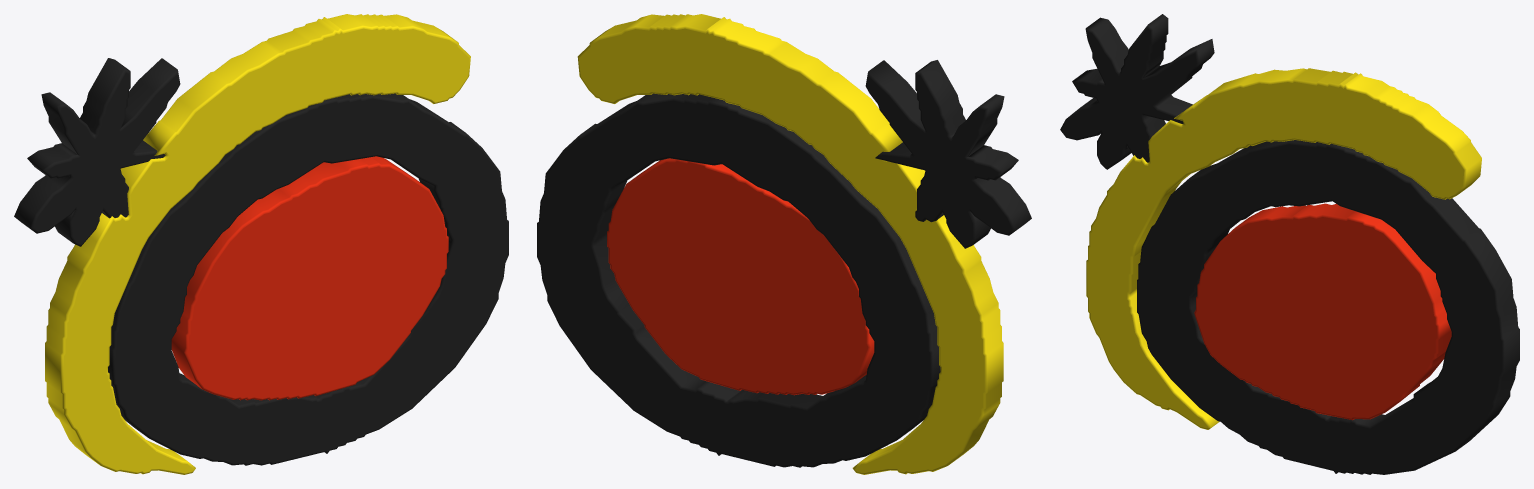
Rendered from spain-sun.glb.
3 renders of one model, left to right at view 1: azimuth 30°, elevation 25°; view 2: azimuth 150°, elevation 25°; view 3: azimuth 330°, elevation 25°, orthographic. The views are drawn at different scales.
Visible parts, largest first — view 1: Black sun and star, Red sun, Yellow crescent; view 2: Black sun and star, Yellow crescent, Red sun; view 3: Black sun and star, Red sun, Yellow crescent.
Boxes of the visible parts, bbox=[...] form: Black sun and star: bbox=[14, 58, 508, 465]; Red sun: bbox=[171, 156, 448, 400]; Yellow crescent: bbox=[45, 14, 470, 474]; Black sun and star: bbox=[537, 60, 1031, 467]; Yellow crescent: bbox=[577, 14, 1003, 474]; Red sun: bbox=[607, 158, 874, 395]; Black sun and star: bbox=[1060, 14, 1519, 474]; Red sun: bbox=[1194, 203, 1451, 420]; Yellow crescent: bbox=[1086, 68, 1481, 429].
Bounding box in the file's own units: 3.08 × 2.67 × 0.253.
